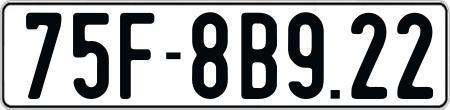2: (397, 10, 438, 97), (351, 13, 388, 102)
5: (72, 11, 109, 97)
7: (24, 12, 60, 100)
8: (191, 11, 233, 100)
9: (287, 10, 328, 97)
B: (241, 10, 278, 102)
F: (120, 13, 154, 101)
